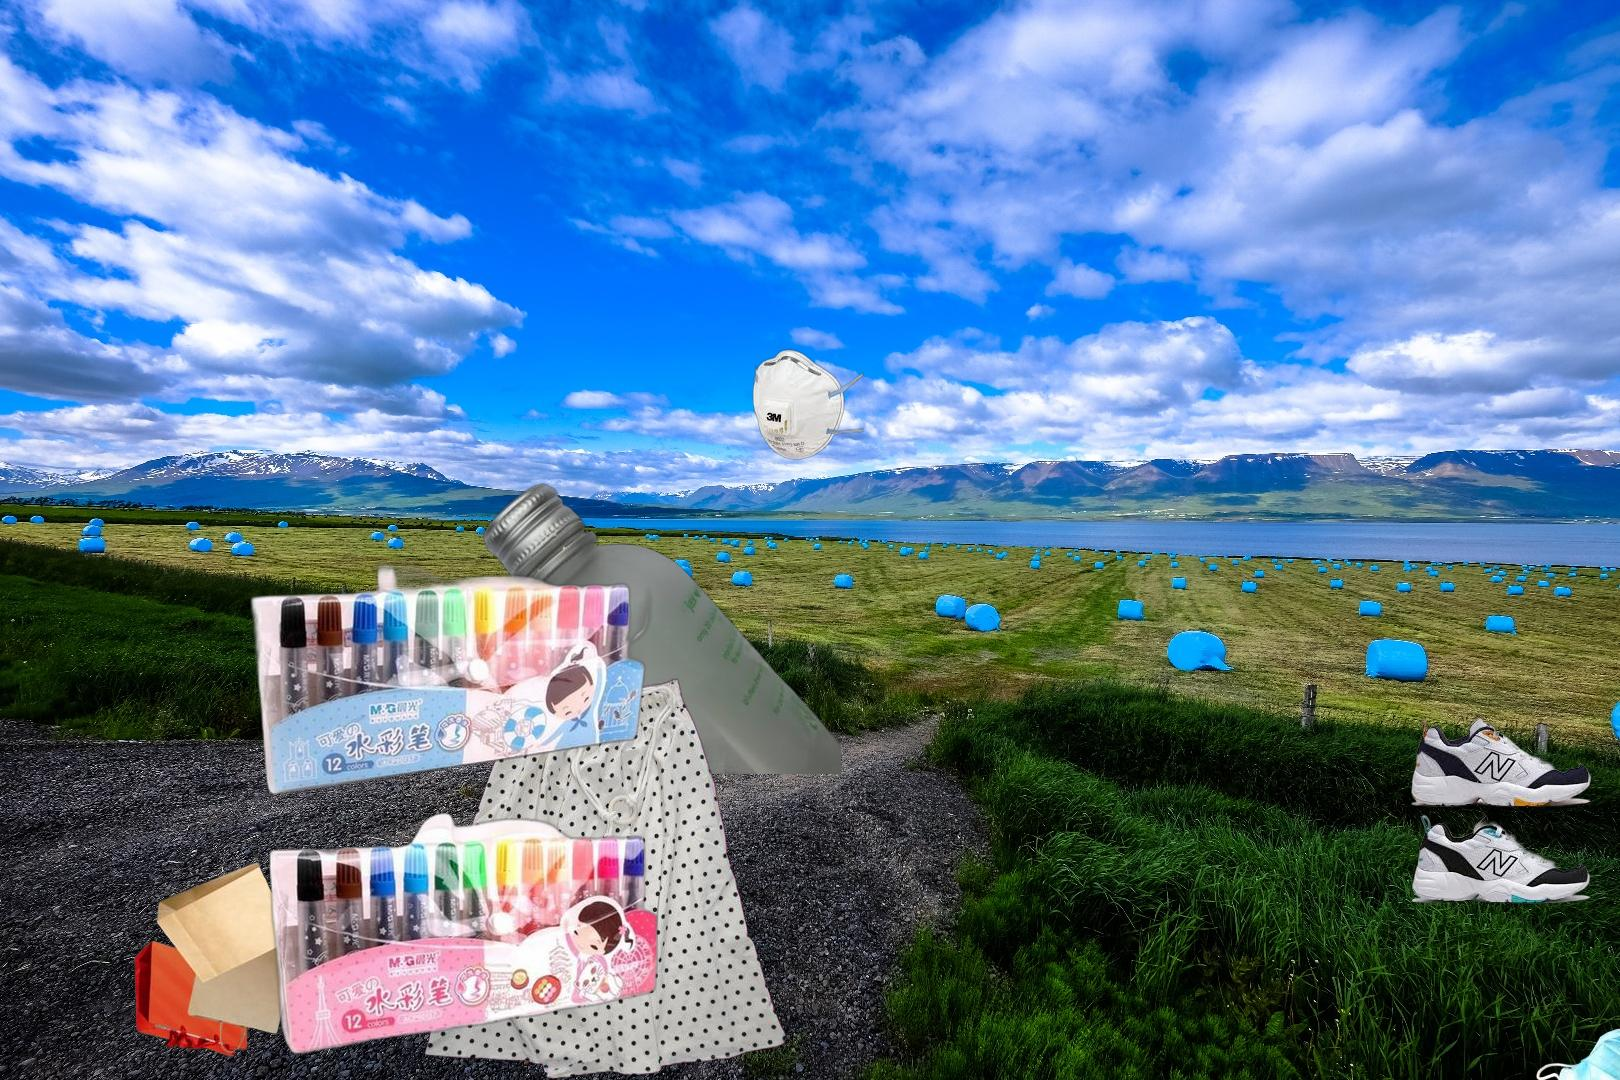clothes: (422, 675, 790, 1080)
glass: (479, 481, 841, 774)
paper-bag: (133, 859, 301, 1060)
penholder: (245, 558, 663, 1058)
shoes: (1408, 714, 1601, 906)
trash: (750, 347, 865, 462), (1533, 1025, 1620, 1080)
